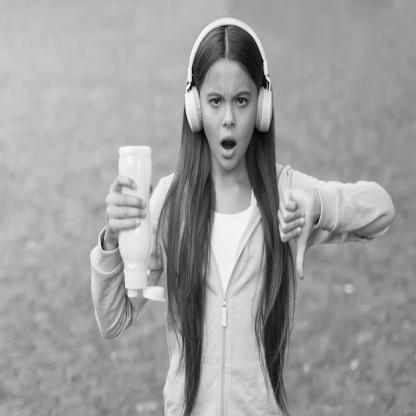thumb_down: (274, 178, 316, 283)
